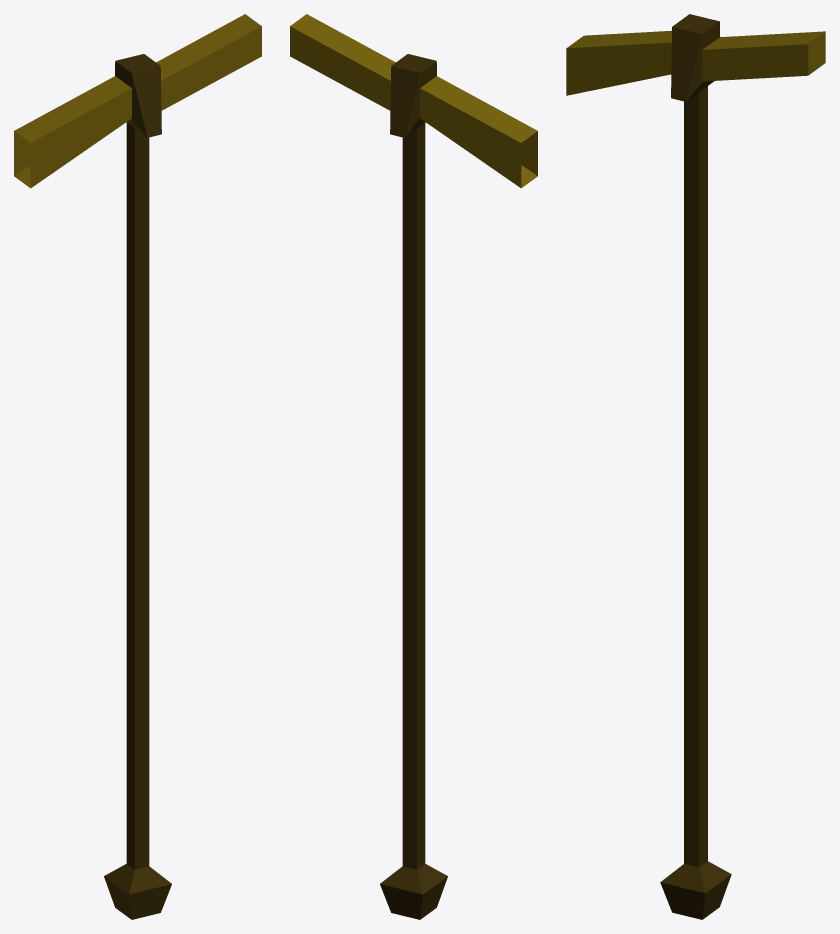
File: obj_ropeswing_9_0.obj
The picture shows the model from 3 angles, left to right: view 1: azimuth 30°, elevation 25°; view 2: azimuth 150°, elevation 25°; view 3: azimuth 330°, elevation 25°; orthographic projection. The views are drawn at different scales.
Bounding box in the file's own units: 1 × 3.56 × 0.25.
